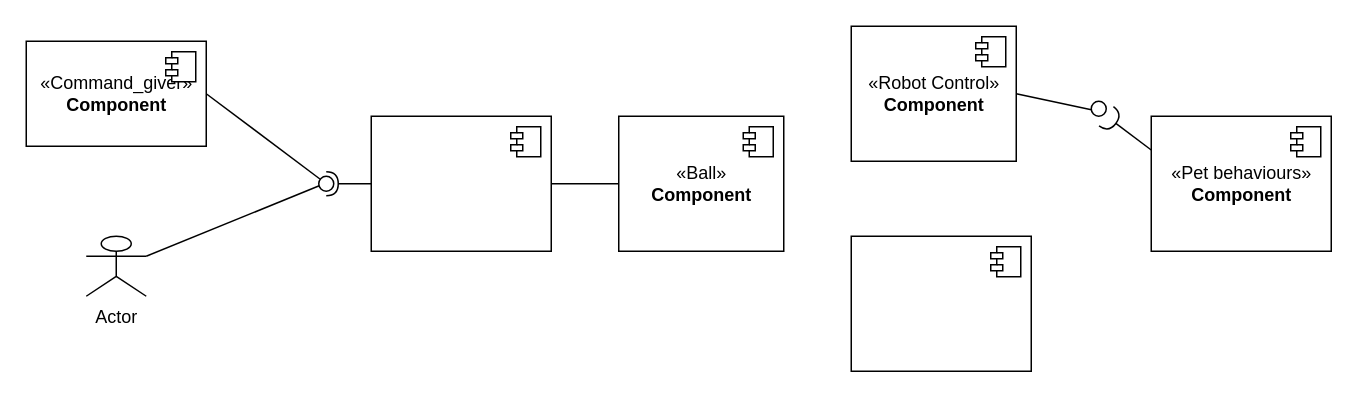
This 1358x398 diagram has some shape labels left out. Each missing label, with the centre of its shape:
"«Logic» Component" goes at [460,183].
"«Perception» Component" goes at [940,303].
